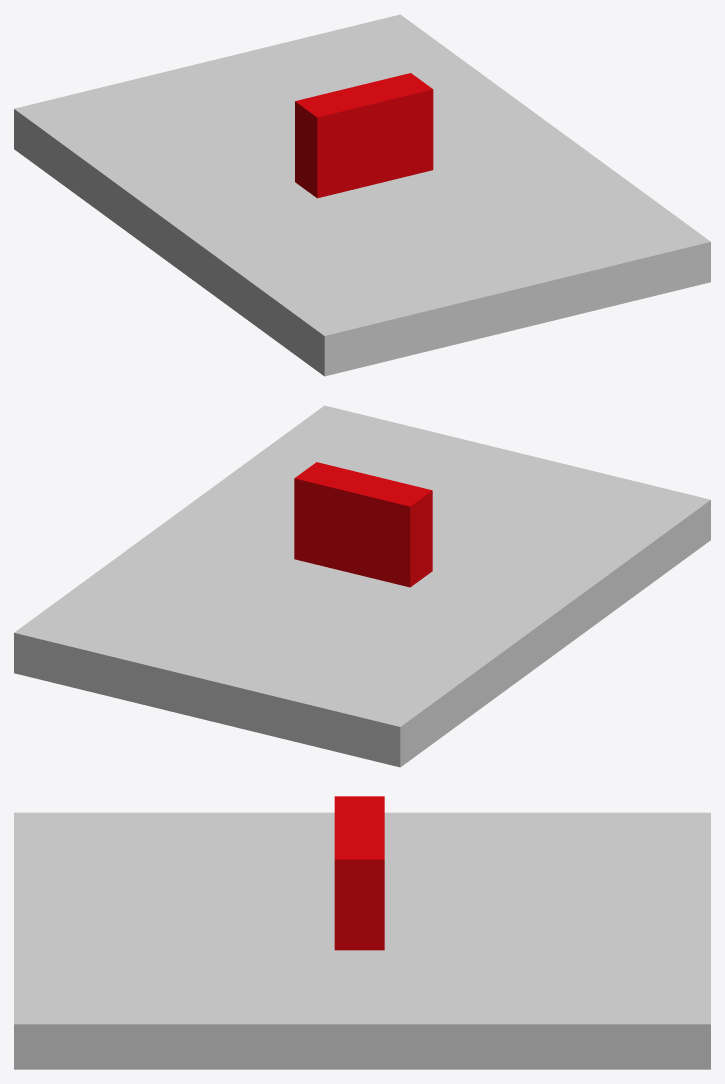
File: Module3.glb
3 renders of one model, top to bottom at view 1: azimuth 30°, elevation 25°; view 2: azimuth 150°, elevation 25°; view 3: azimuth 270°, elevation 25°, orthographic. The views are drawn at different scales.
Parts seen in each view (by area): view 1: Floor3-col, Obstacle5; view 2: Floor3-col, Obstacle5; view 3: Floor3-col, Obstacle5.
Part boxes in pixels (bbox=[...]): Floor3-col: bbox=[14, 14, 710, 376]; Obstacle5: bbox=[295, 73, 433, 198]; Floor3-col: bbox=[14, 405, 710, 767]; Obstacle5: bbox=[294, 462, 432, 587]; Floor3-col: bbox=[14, 812, 710, 1069]; Obstacle5: bbox=[334, 796, 384, 950].
Bounding box in the file's own units: 10 × 3 × 13.92.
